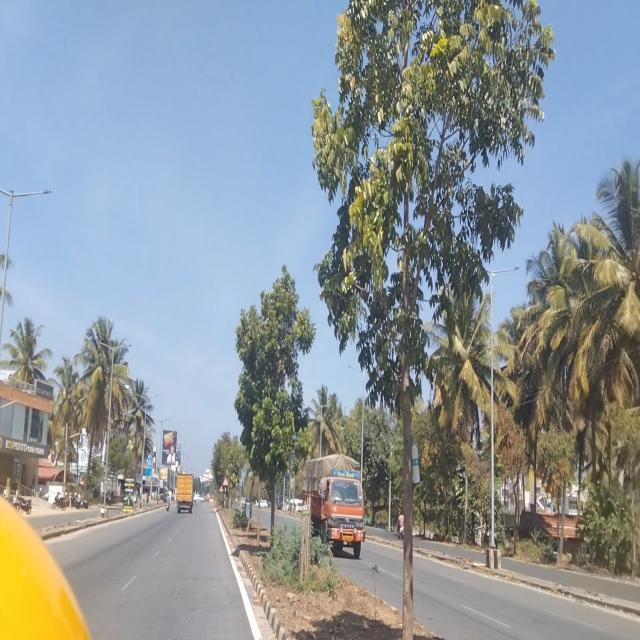bien_cam: (222, 474, 228, 488), (218, 484, 224, 494)
